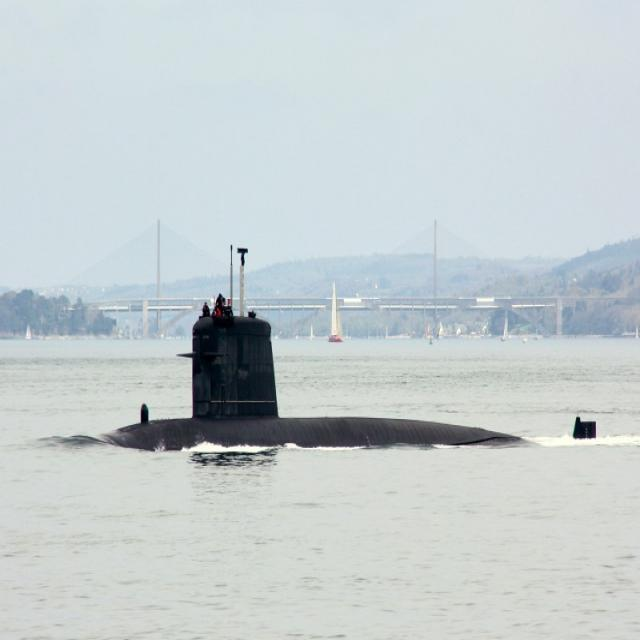submarine: (98, 215, 601, 449)
